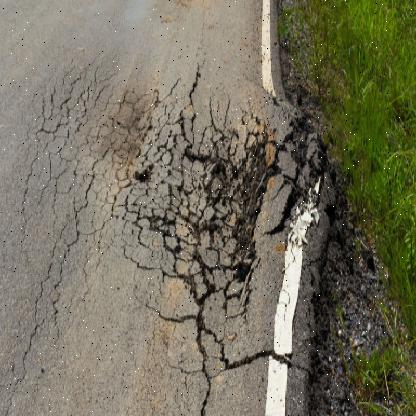crack: (144, 97, 271, 377)
